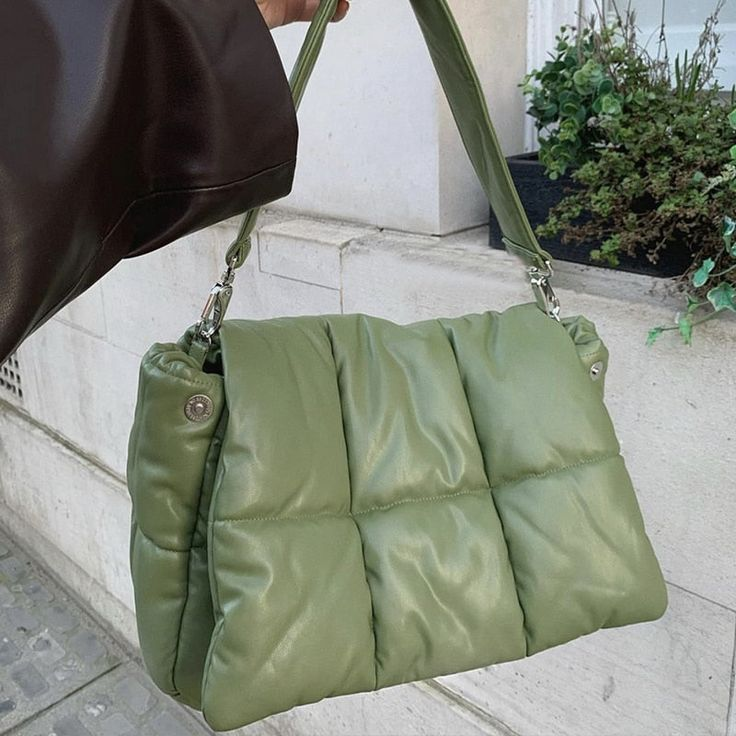nylon: (126, 304, 668, 733)
